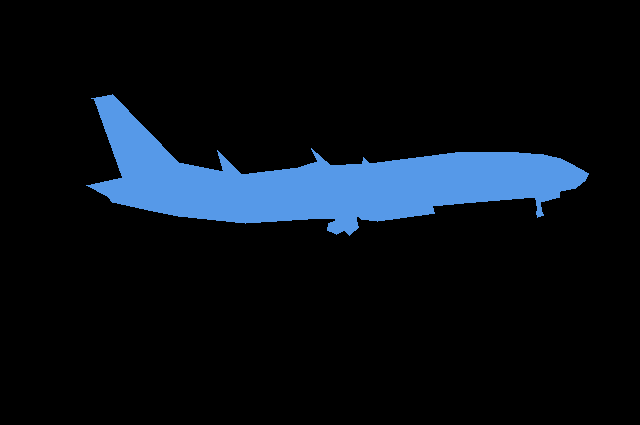Airplane: (86, 94, 589, 235)
